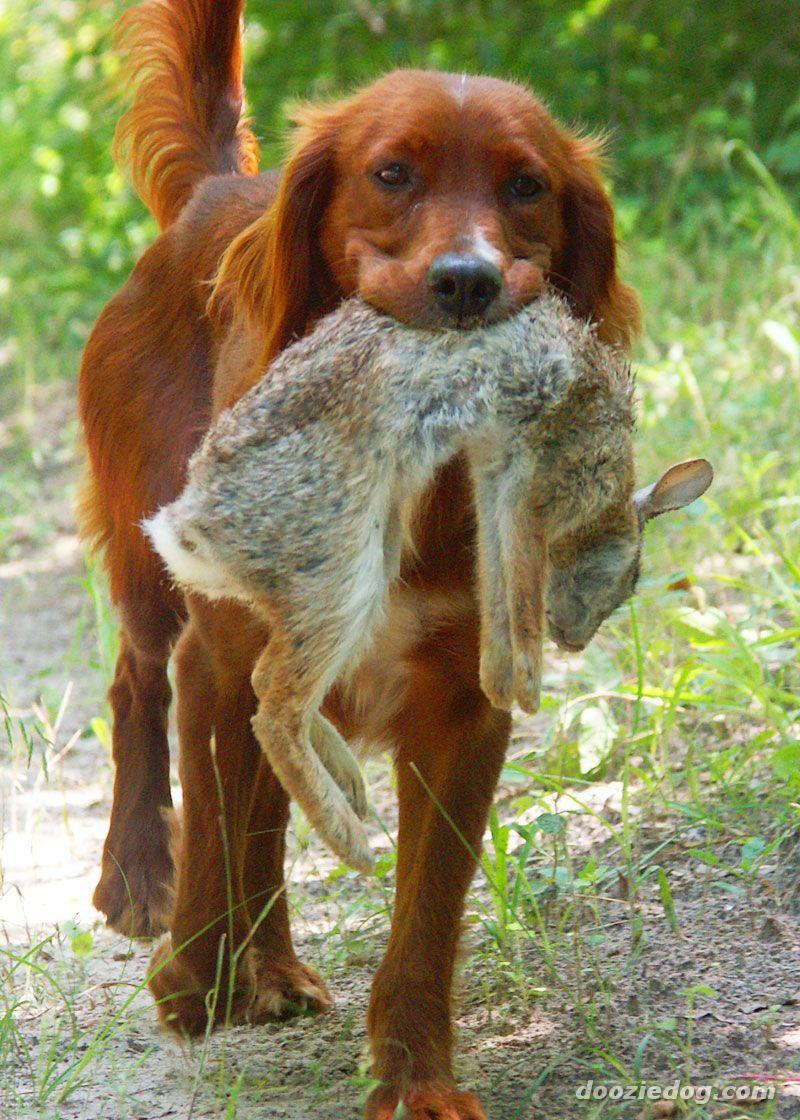Irish_setter: (64, 0, 645, 1117)
